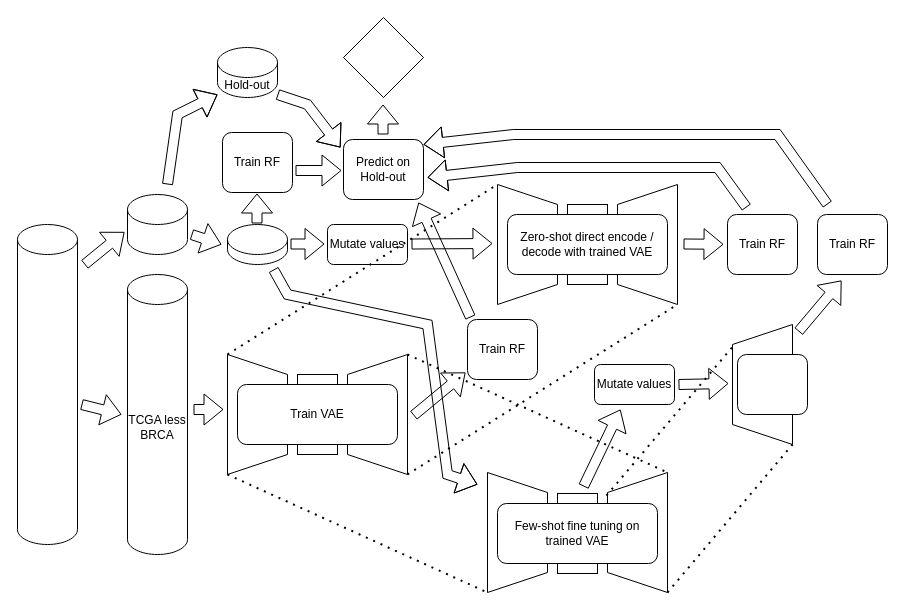
Some shapes in this 905 by 612 pixel diagram are drawn without their labels. The shapes that lost their labels are listed below. From the top down, each one's centre as x and y in pixels, then its label:
the point at 383,57: Compare
the point at 157,224: BRCA
the point at 257,244: Hold-in
the point at 47,384: TCGA
the point at 772,384: Trained and fine-tuned decoder
